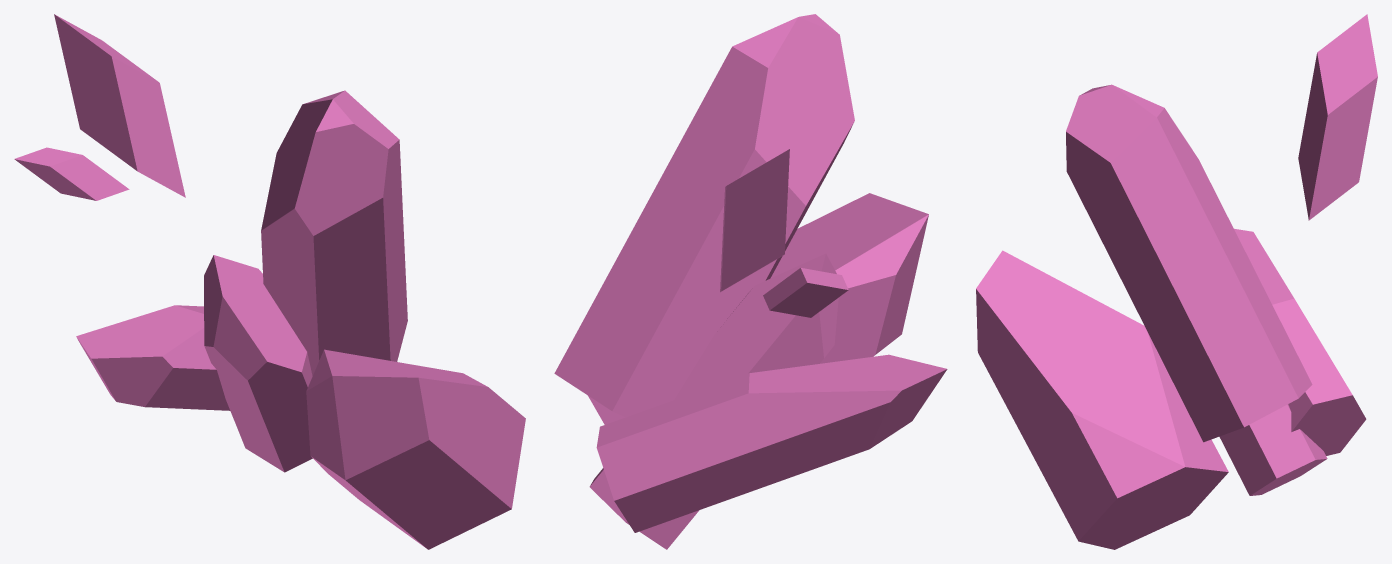
Rendered from definity.crystal_rock_crystal_righttop.glb.
The picture shows the model from 3 angles, left to right: view 1: azimuth 30°, elevation 25°; view 2: azimuth 150°, elevation 25°; view 3: azimuth 270°, elevation 25°; orthographic projection. The views are drawn at different scales.
Visible parts, largest first — view 1: Cylinder.008, Cylinder, Cylinder.006, Cube.019, Cylinder.007, Cube.020; view 2: Cylinder.008, Cylinder.007, Cylinder, Cylinder.006, Cube.019, Cube.020; view 3: Cylinder.008, Cylinder, Cube.019, Cylinder.007, Cylinder.006.
Boxes of the visible parts, x1,y1,x2,y2 form: Cylinder.008: (261, 90, 407, 375); Cylinder: (306, 349, 525, 549); Cylinder.006: (204, 255, 312, 472); Cube.019: (54, 14, 185, 197); Cylinder.007: (76, 305, 230, 410); Cube.020: (14, 147, 129, 200); Cylinder.008: (554, 14, 854, 417); Cylinder.007: (596, 354, 947, 532); Cylinder: (588, 193, 928, 424); Cylinder.006: (589, 253, 838, 549); Cube.019: (720, 149, 789, 292); Cube.020: (763, 267, 848, 317); Cylinder.008: (1066, 84, 1312, 442); Cylinder: (976, 250, 1228, 549); Cube.019: (1298, 14, 1377, 220); Cylinder.007: (1234, 228, 1366, 455); Cylinder.006: (1219, 404, 1327, 495).
Bounding box in the file's own units: 3.31 × 3.99 × 3.34.
